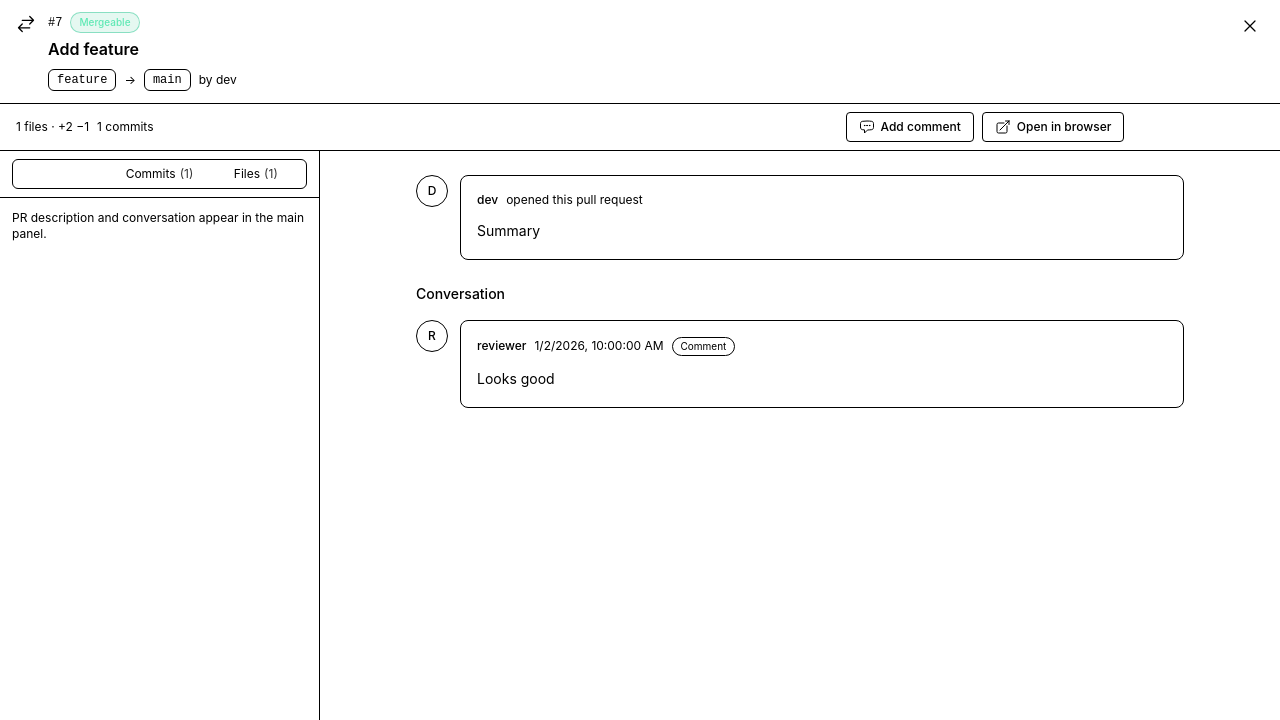
Test: PullRequestDetailScreen › renders pull request detail when opened from the sidebar
Expected: the heading "Add feature" is shown, [48,39,139,59]
Expected: the text "Looks good" is shown, [477,370,555,387]
Click the button "Files(1)" at [256, 174], box [208,162,304,186]
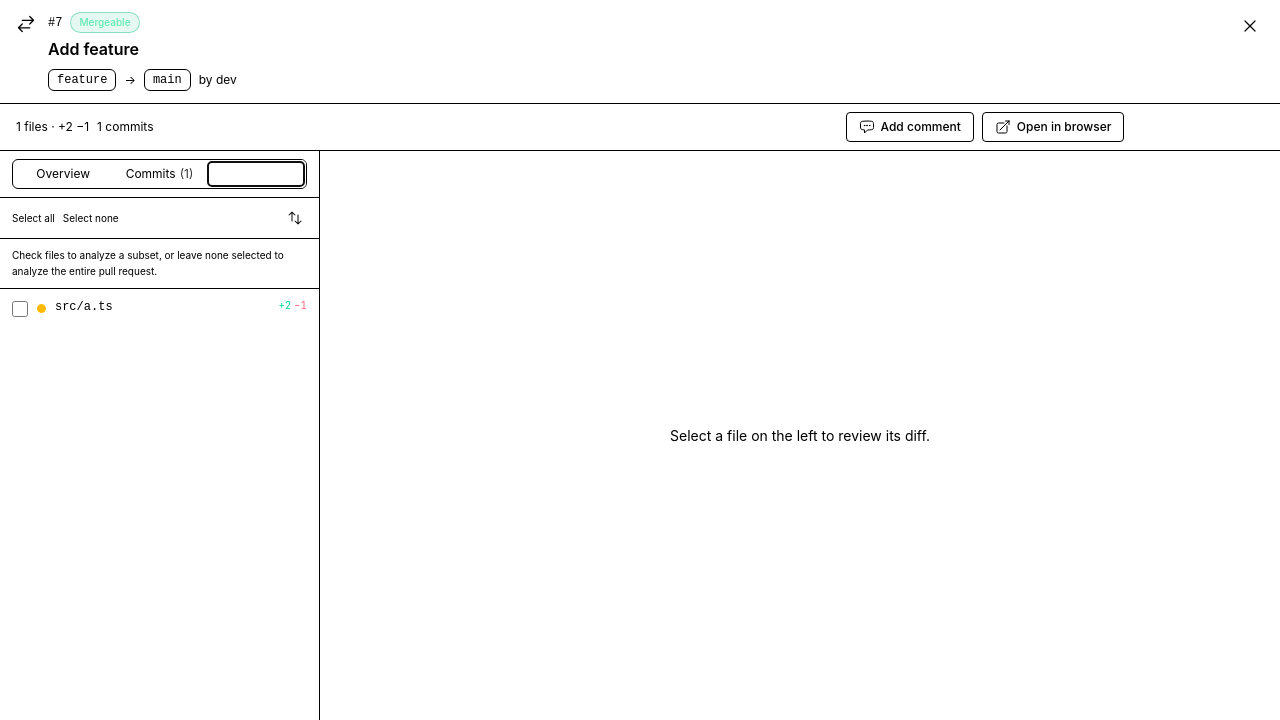
Expected: the text "Commits" is shown, [126,166,176,181]
Now the text "src/a.ts" is shown, box [55,300,113,314]
